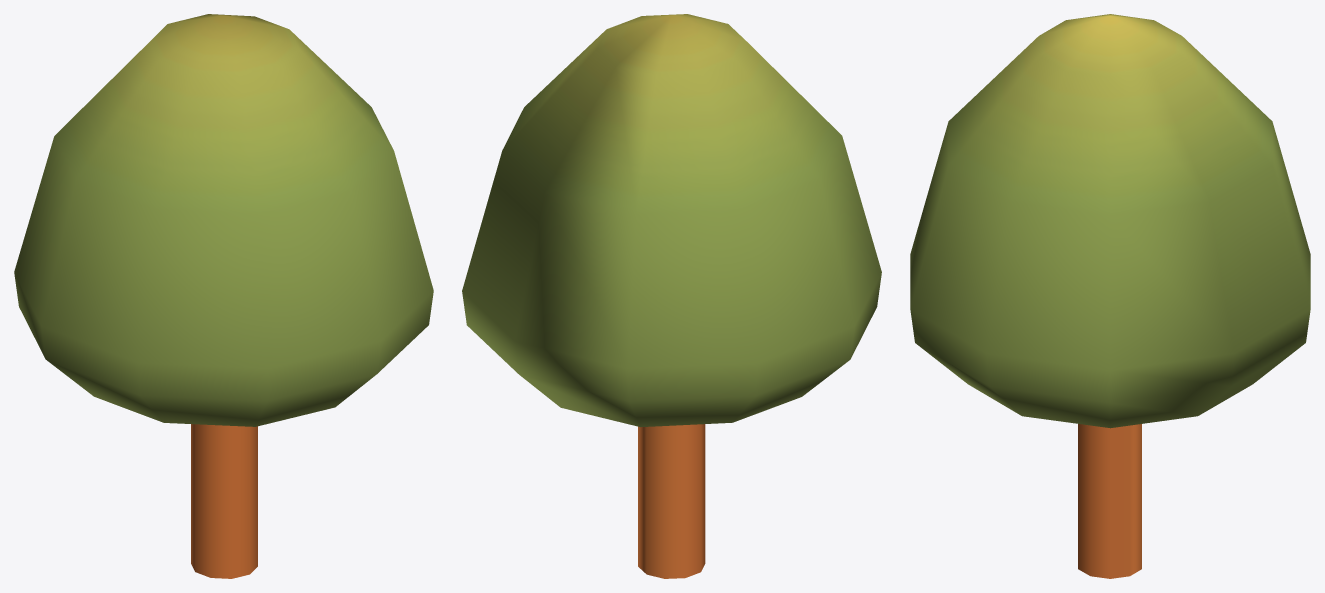
File: Outer tree9.fbx
3 renders of one model, left to right at view 1: azimuth 30°, elevation 25°; view 2: azimuth 150°, elevation 25°; view 3: azimuth 270°, elevation 25°, orthographic.
Visible parts, largest first — view 1: Outer_tree9; view 2: Outer_tree9; view 3: Outer_tree9.
Part boxes in pixels (<box>): Outer_tree9: <box>14,14,433,578</box>; Outer_tree9: <box>462,14,881,578</box>; Outer_tree9: <box>910,14,1310,578</box>.
Size of the model in its own units: 180 by 259 by 171.
Materials: 1 (1 with a texture image).
